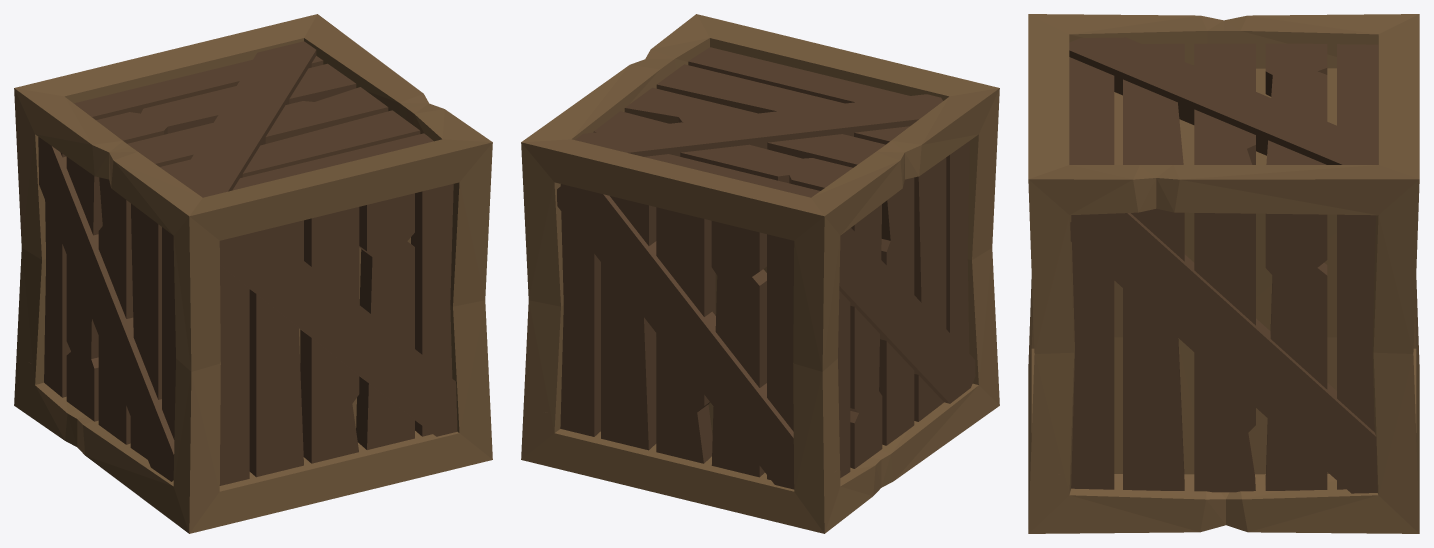
File: DressCrate.glb
3 renders of one model, left to right at view 1: azimuth 30°, elevation 25°; view 2: azimuth 150°, elevation 25°; view 3: azimuth 270°, elevation 25°, orthographic. The views are drawn at different scales.
Visible parts, largest first — view 1: DressCrate; view 2: DressCrate; view 3: DressCrate.
Boxes of the visible parts, box(x1,y1,x2,y2) form: DressCrate: box(14, 14, 492, 533); DressCrate: box(521, 14, 999, 533); DressCrate: box(1028, 14, 1419, 533).
Size of the model in its own units: 0.8 by 0.8 by 0.8001.
